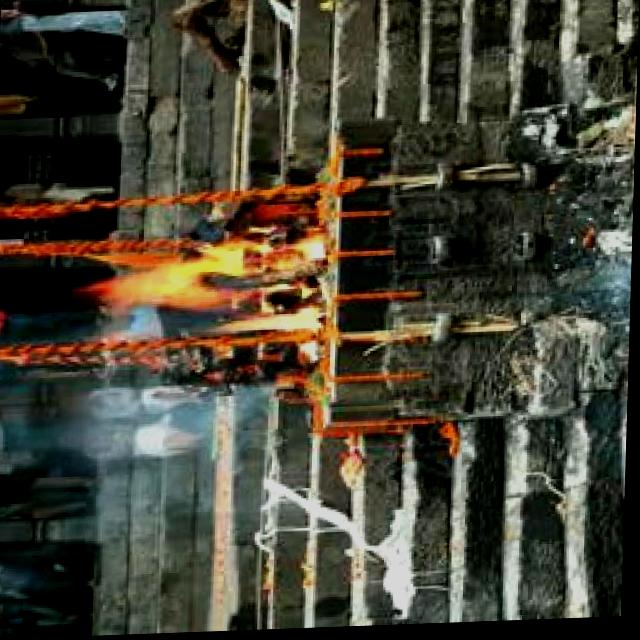helmet: (96, 235, 328, 351)
